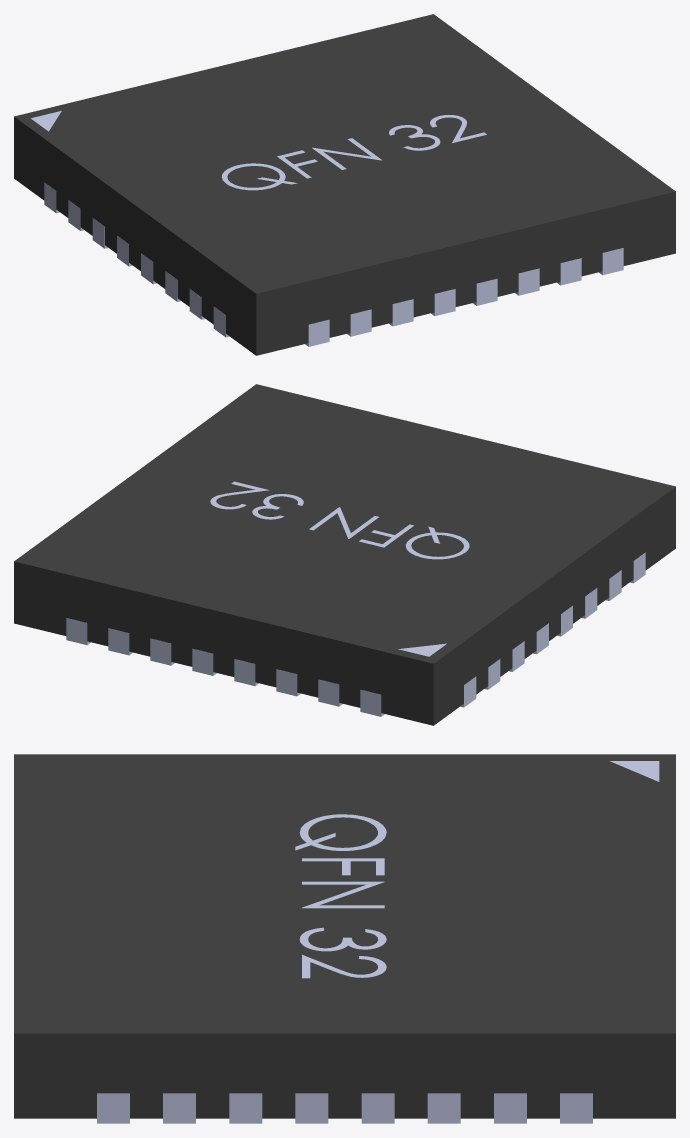
File: QFN32_4x4-bfbcb7246931.glb
3 views of the same model, one above another, from view 1: azimuth 30°, elevation 25°; view 2: azimuth 150°, elevation 25°; view 3: azimuth 270°, elevation 25° (orthographic). The views are drawn at different scales.
Visible parts, largest first — view 1: material0, material1; view 2: material0, material1; view 3: material0, material1.
Boxes of the visible parts, x1=… form: material0: x1=14, y1=14, x2=675, y2=355; material1: x1=31, y1=110, x2=623, y2=346; material0: x1=14, y1=384, x2=675, y2=725; material1: x1=66, y1=481, x2=645, y2=716; material0: x1=14, y1=754, x2=675, y2=1118; material1: x1=97, y1=761, x2=659, y2=1123.
Bounding box in the file's own units: 4 × 0.6001 × 4.
